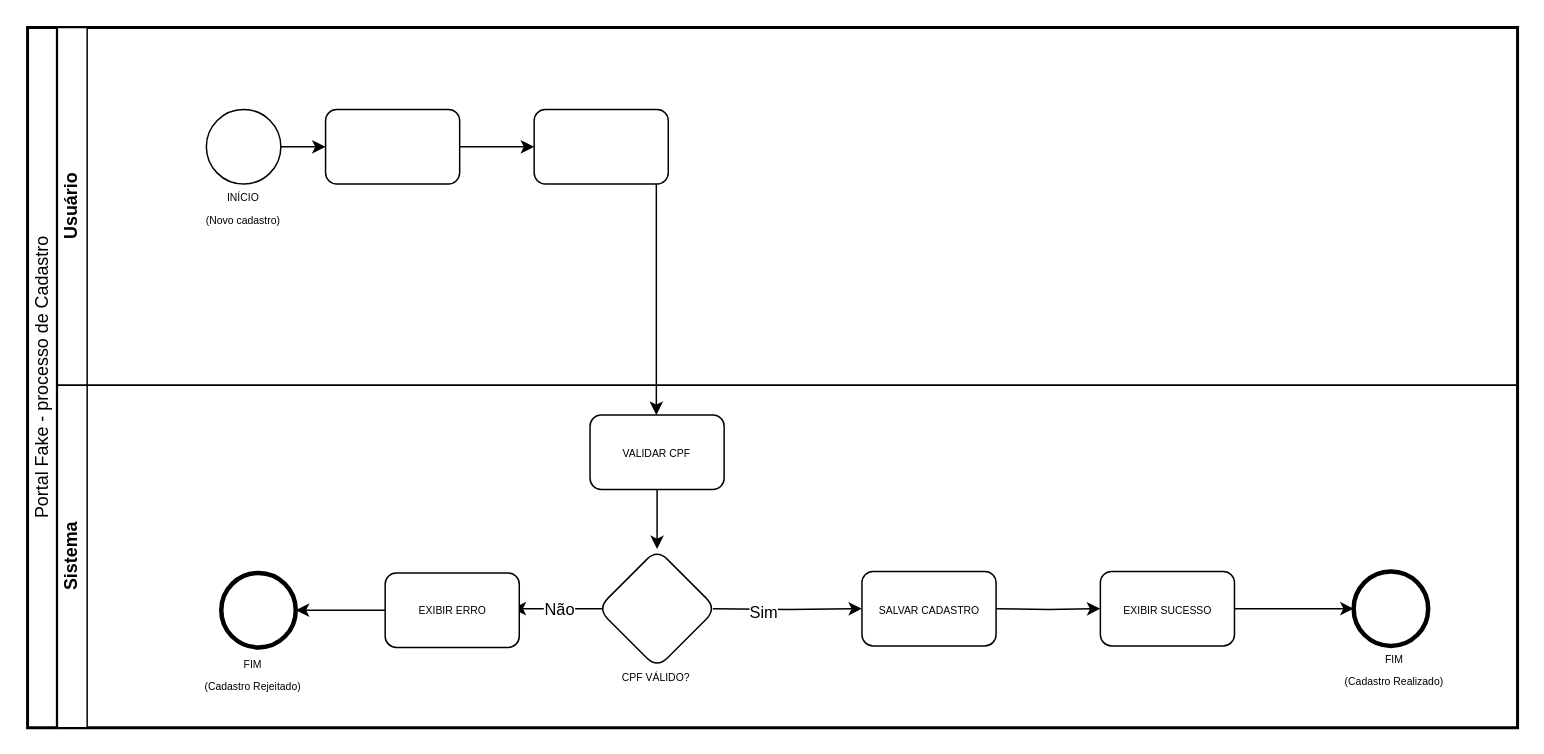
This 1544x754 diagram has some shape labels left out. Here are the shapes that lost their labels. From the top down, the centre of each, then its label:
point (392, 146): PREENCHER FORMULÁRIO
point (600, 146): CLICA EM SALVAR
